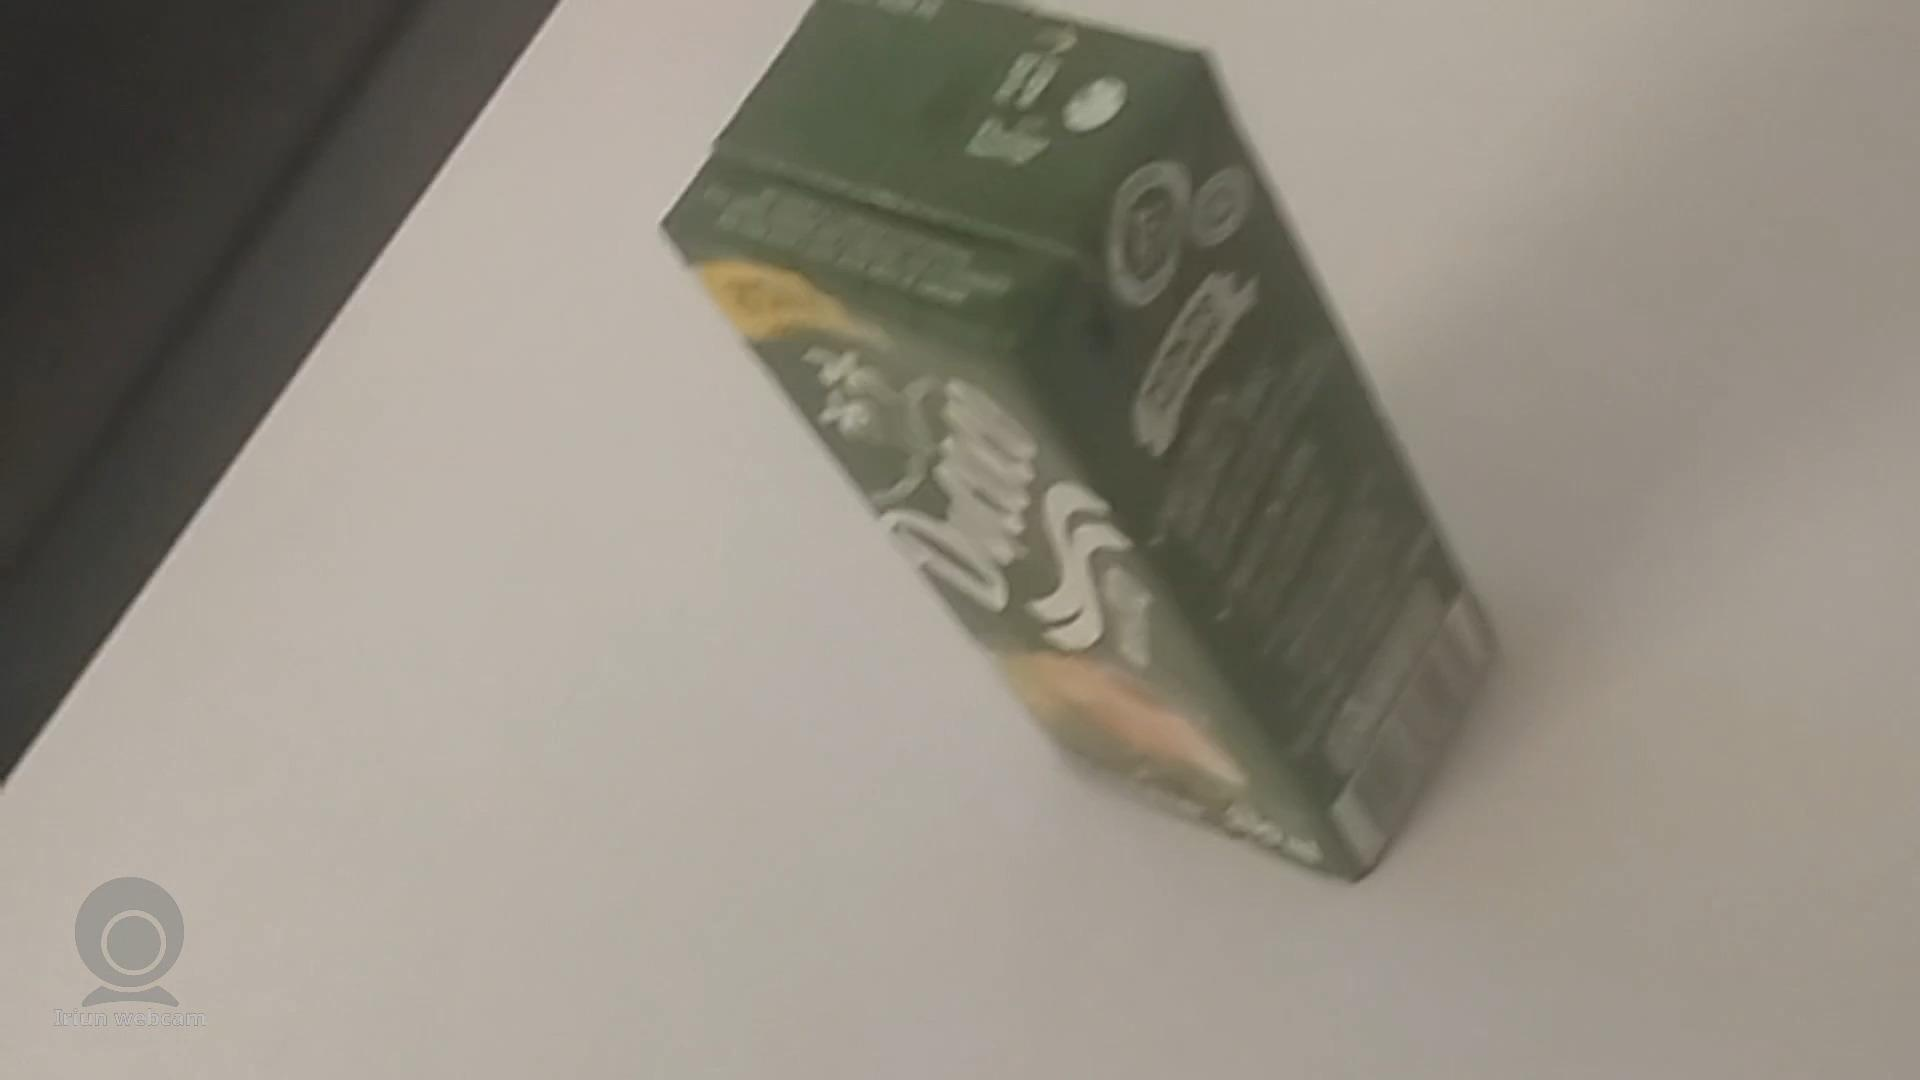coco: (666, 3, 1490, 893)
